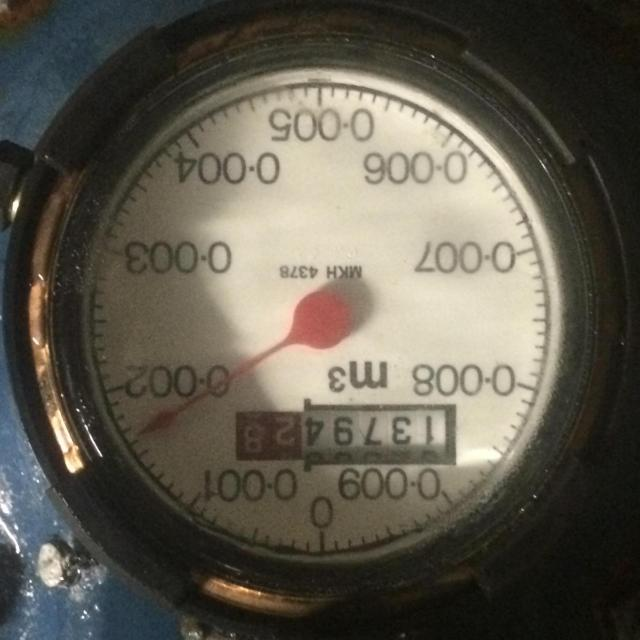gaz_meter: (76, 65, 573, 561)
indication: (232, 403, 459, 464)
